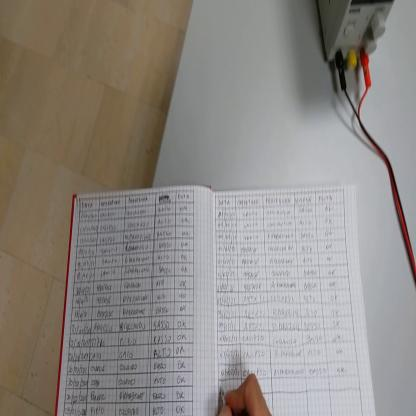hand: (224, 374, 270, 412)
power supply: (312, 2, 395, 65)
register: (56, 189, 376, 415)
